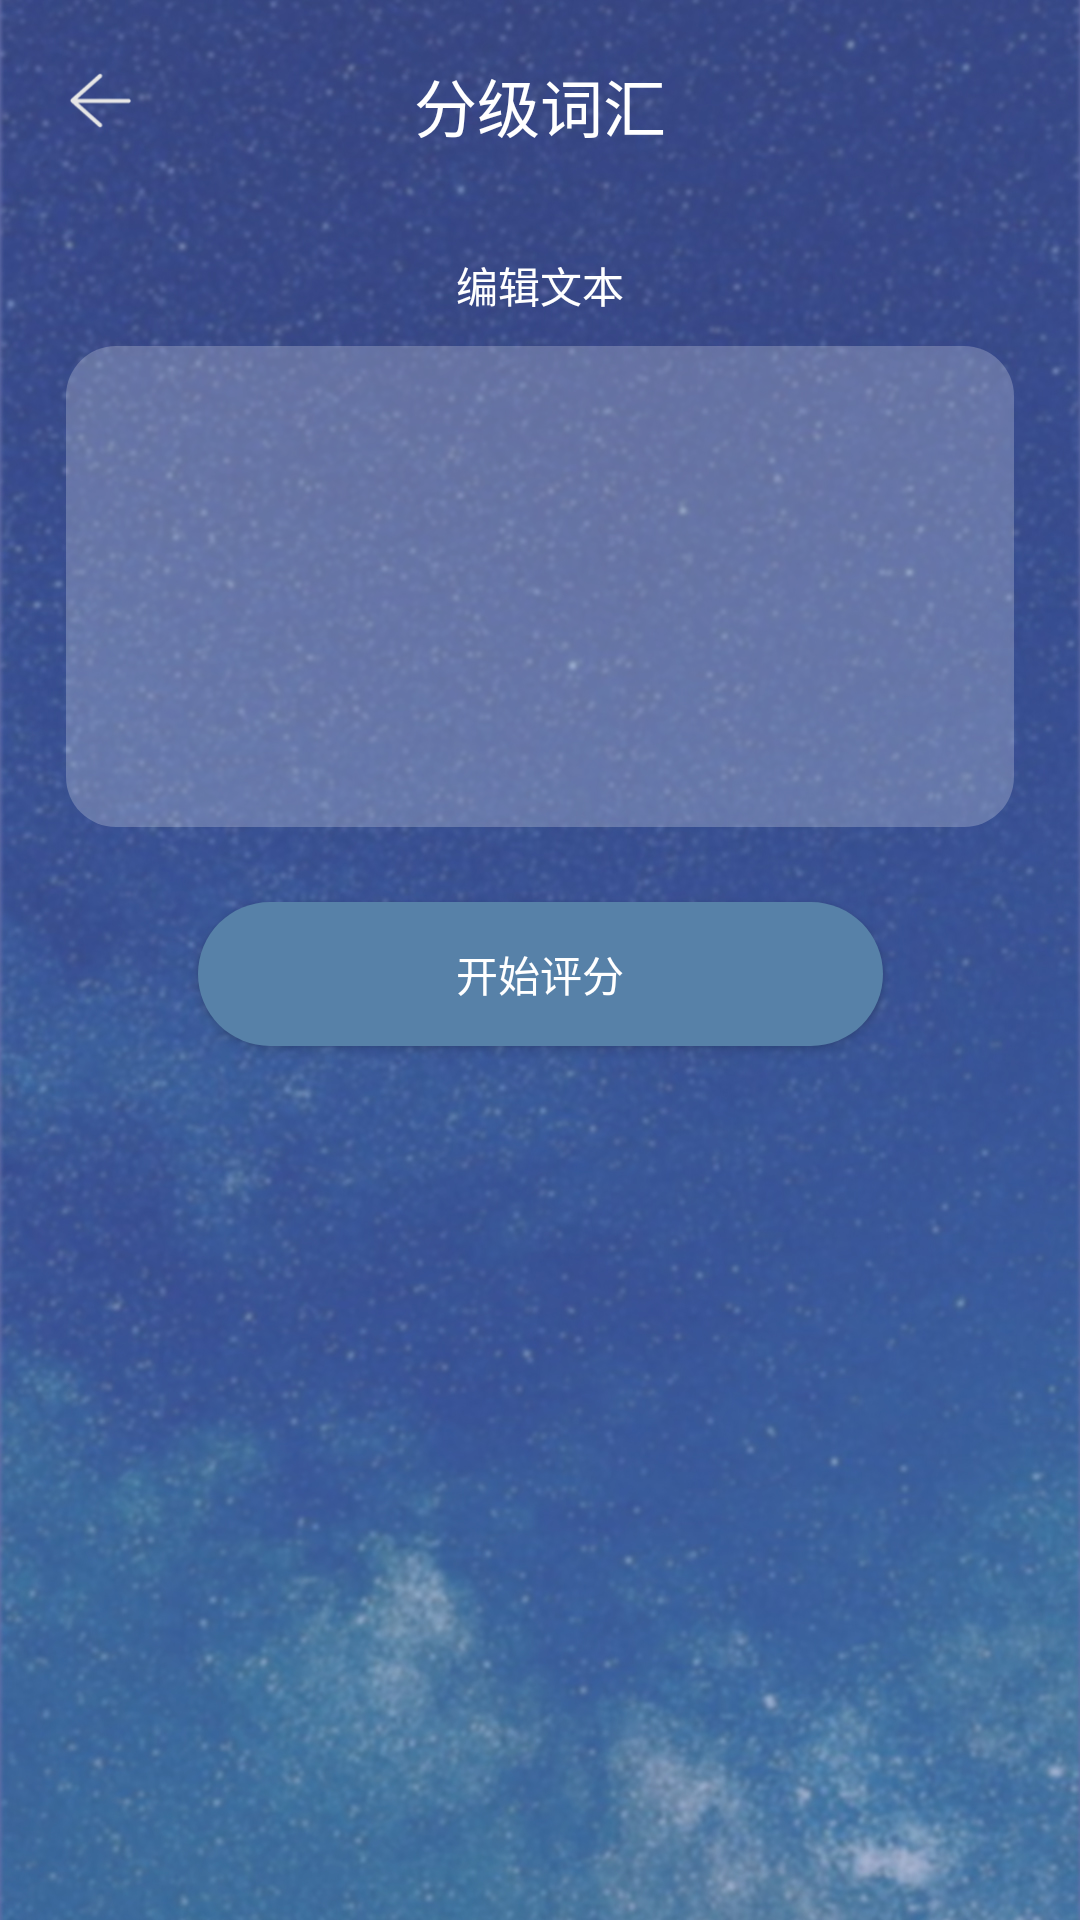

Icons on this 1080 × 1920 Android screen, each with the point to tap as (x=x, y=y):
back: (x=100, y=100)
